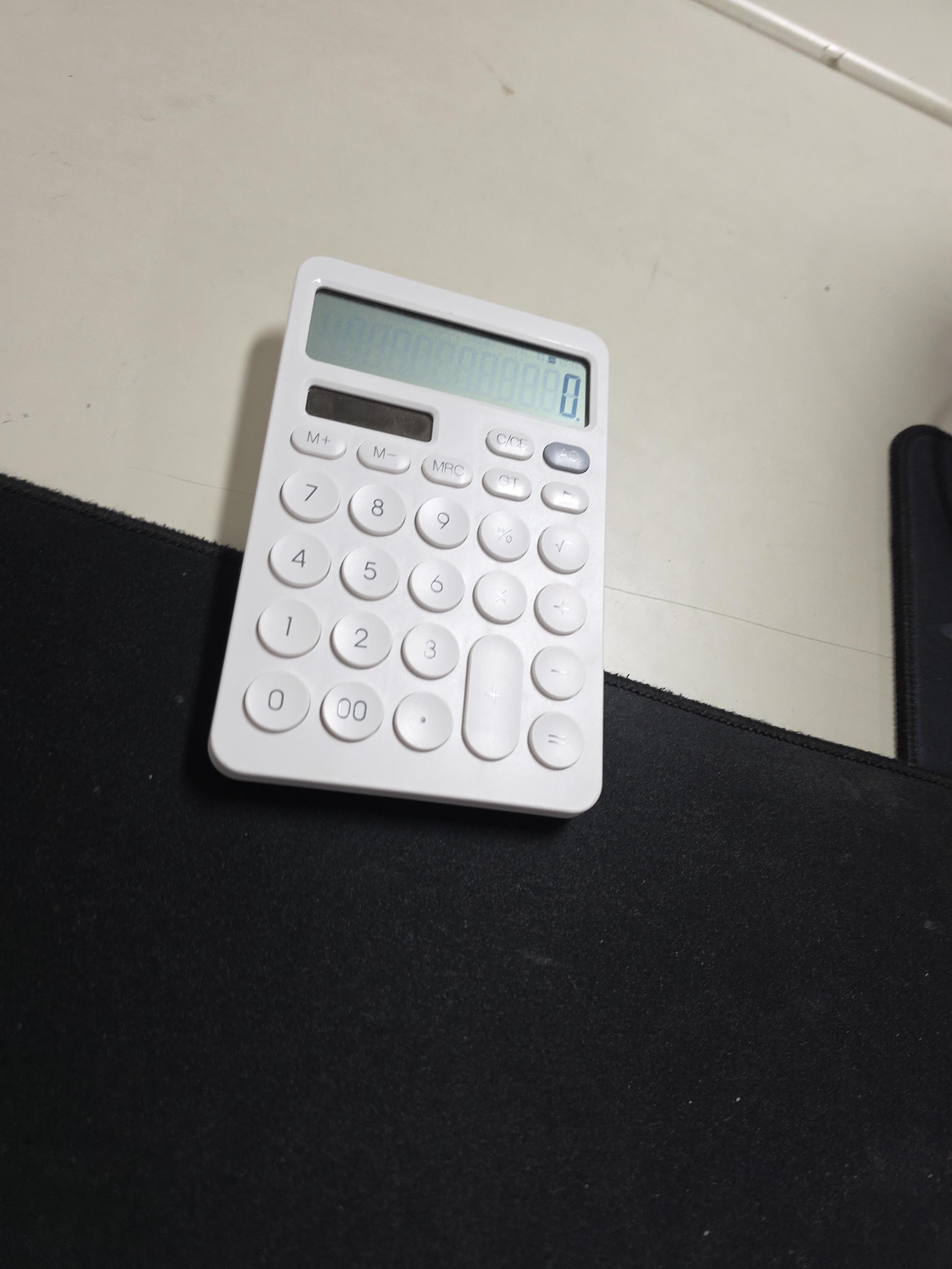calculator: (206, 254, 610, 819)
